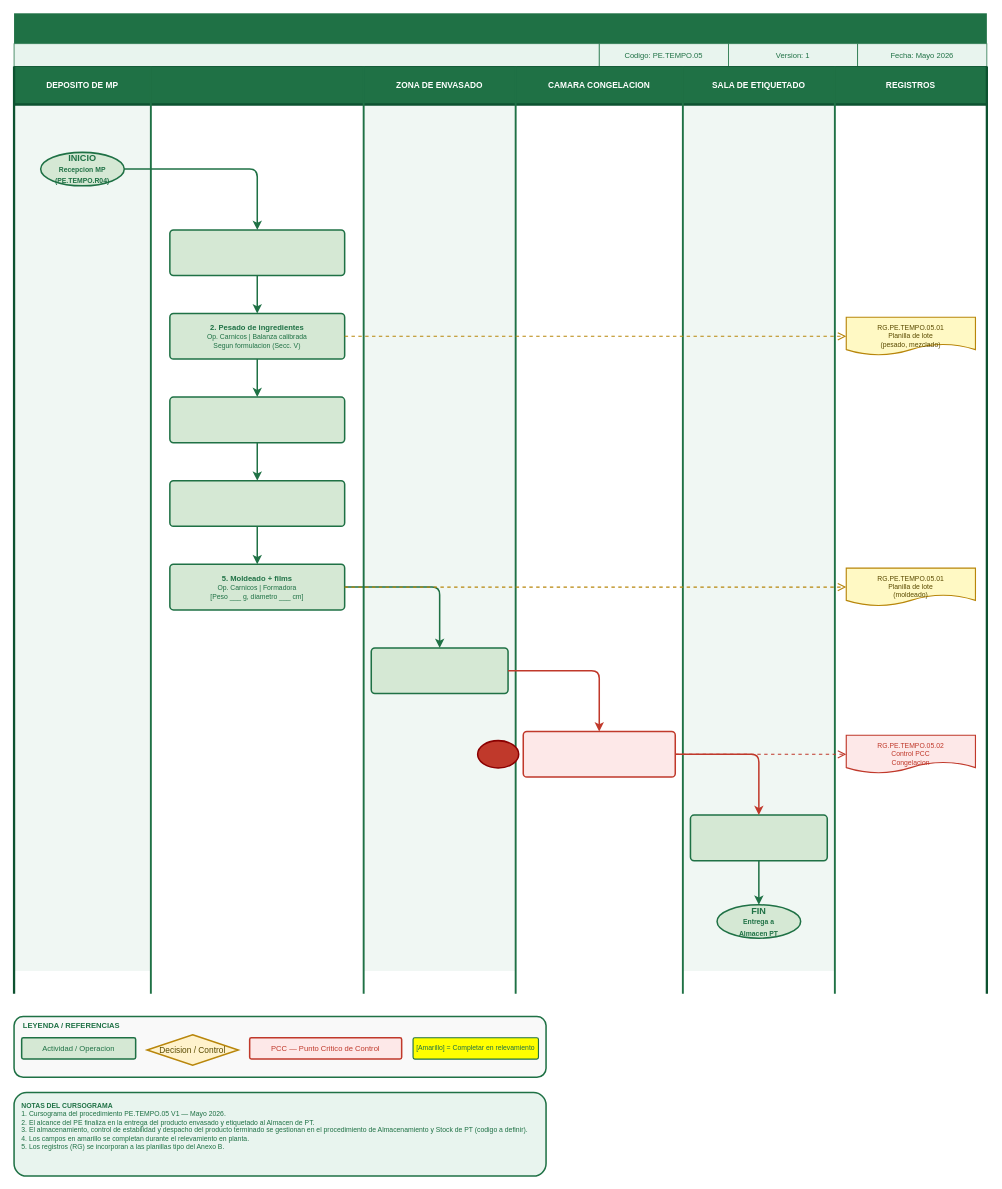
Some shapes in this 1002 by 1189 pixel diagram are drawn without their labels. The shapes that lost their labels are listed below. From the top down, each one's box as (x1, y1, x2, y2) in pixels, then its label:
(14, 13, 986, 43): TEMBI'U PORA — Casa de Agroindustrias ERAGIA — Universidad Nacional del Nordeste
(13, 43, 599, 66): CURSOGRAMA — ELABORACION DE MEDALLONES (HAMBURGUESAS)
(150, 66, 364, 104): SALA DE CARNICOS
(169, 229, 345, 276): 1. Lavado y corte de hortalizas Op. Carnicos Cebollita, perejil (huerta ERAGIA)
(169, 396, 345, 443): 3. Mezclado carne + hortalizas Op. Carnicos | Amasadora 10 min Tº ≤ 5 °C
(169, 480, 345, 527): 4. Agregado de condimentos Op. Carnicos | Pasta uniforme [Orden, tipos]
(370, 647, 508, 694): 6. Envasado en bolsas PE Op. Carnicos / Envasado Sellado calor, hasta 20 unid.
(477, 739, 519, 768): PCC-1
(522, 730, 676, 777): 7. PCC — Congelacion Op. Carnicos | Camara [Tº ≤ -18°C / 24 hs minimo]
(689, 814, 828, 861): 8. Etiquetado Op. / Etiquetado [Datos rotulo CAA]
